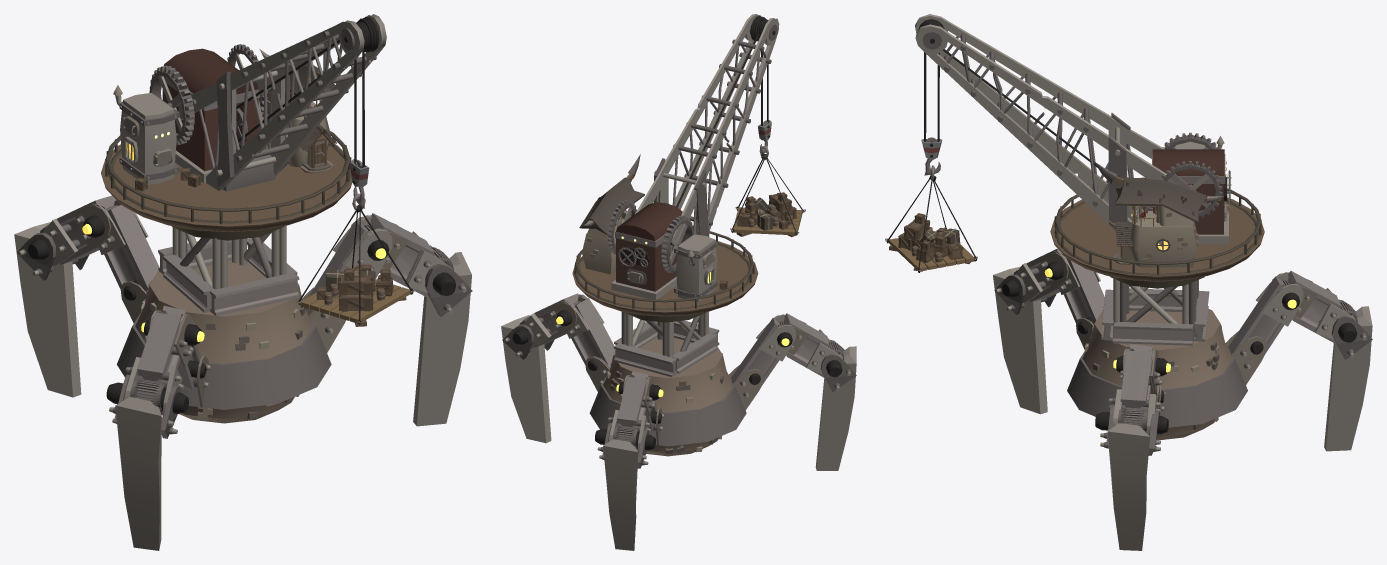
Rendered from Crane.fbx.
3 renders of one model, left to right at view 1: azimuth 30°, elevation 25°; view 2: azimuth 150°, elevation 25°; view 3: azimuth 270°, elevation 25°, orthographic. The views are drawn at different scales.
Visible parts, largest first — view 1: pCylinder522, pCylinder521, pCylinder520, polySurface8772, pCylinder310, pCylinder446, pCylinder373, pCylinder445, pCube1338, polySurface10065, pCube1303, pCube1304 (+16 smaller); view 2: pCylinder521, pCylinder522, polySurface8772, pCylinder310, pCylinder520, pCylinder446, pCylinder373, pCylinder445, pCube1338, pCube1303, pCube1304, polySurface9634 (+16 smaller); view 3: pCylinder522, pCylinder521, pCylinder520, pCylinder445, polySurface8772, pCylinder446, pCylinder373, pCylinder310, polySurface10068, polySurface9575, polySurface10066, pCube1304 (+9 smaller).
Part boxes in pixels (x1,y1,x2,y2): pCylinder522: (14, 195, 159, 397); pCylinder521: (106, 305, 210, 550); pCylinder520: (305, 214, 472, 426); polySurface8772: (101, 144, 352, 231); pCylinder310: (135, 260, 312, 363); pCylinder446: (178, 20, 364, 190); pCylinder373: (117, 313, 331, 409); pCylinder445: (255, 14, 386, 176); pCube1338: (120, 93, 176, 184); polySurface10065: (210, 272, 299, 316); pCube1303: (162, 84, 258, 171); pCube1304: (164, 48, 258, 94); pCylinder521: (728, 313, 856, 470); pCylinder522: (595, 371, 664, 550); polySurface8772: (572, 240, 758, 316); pCylinder310: (603, 337, 732, 412); pCylinder520: (501, 293, 615, 443); pCylinder446: (670, 18, 779, 255); pCylinder373: (589, 375, 746, 446); pCylinder445: (635, 14, 760, 213); pCube1338: (676, 234, 717, 301); pCube1303: (616, 234, 685, 291); pCube1304: (616, 202, 682, 241); polySurface9634: (571, 299, 615, 367); pCylinder522: (1225, 271, 1372, 451); pCylinder521: (993, 248, 1104, 414); pCylinder520: (1095, 344, 1160, 550); pCylinder445: (915, 24, 1177, 230); polySurface8772: (1050, 195, 1264, 281); pCylinder446: (915, 14, 1164, 212); pCylinder373: (1067, 346, 1247, 427); pCylinder310: (1082, 309, 1232, 389); polySurface10068: (1129, 213, 1196, 267); polySurface9575: (1115, 177, 1206, 222); polySurface10066: (1113, 322, 1193, 345); pCube1304: (1152, 149, 1224, 176).
Bounding box in the file's own units: 44.8 × 54.94 × 53.82.
